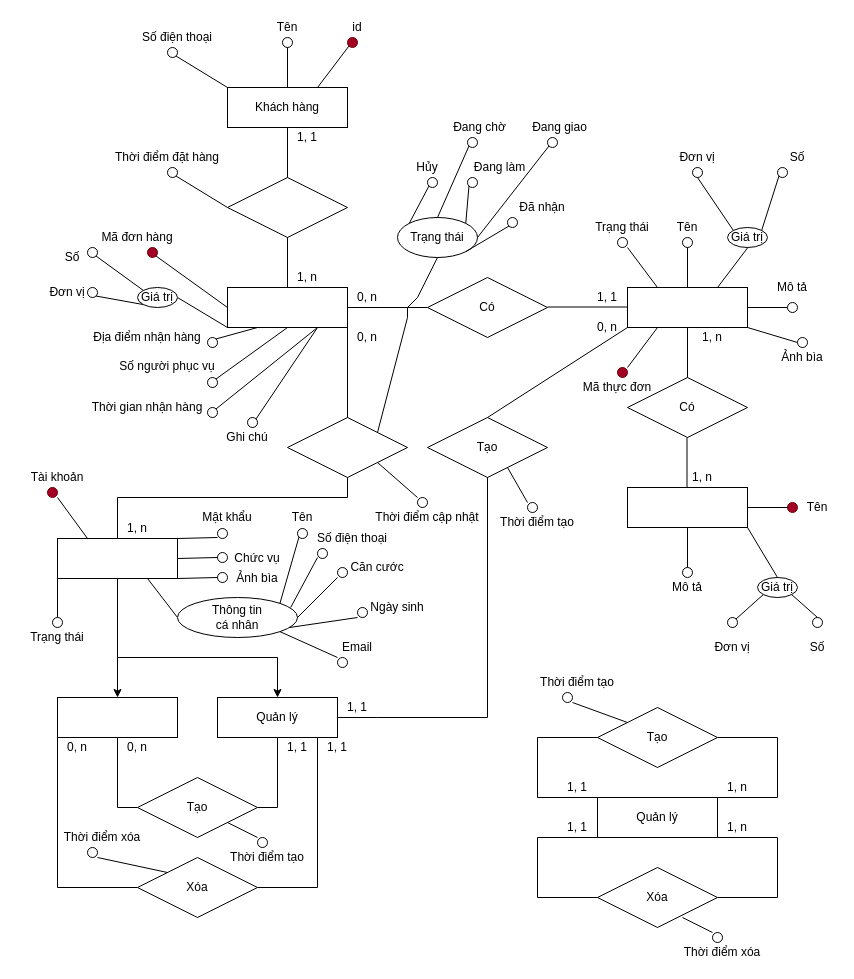
Image size: 854x979. Some labels were removed from this diagram. The centre of each missing label's shape, as x and y in pixels:
"Admin" goes at pixel 117 558.
"Cập nhật" goes at pixel 347 447.
"Món ăn" goes at pixel 687 507.
"Nhân viên" goes at pixel 117 717.
"Thực đơn" goes at pixel 687 307.
"Đơn hàng" goes at pixel 287 307.
"Đặt" goes at pixel 287 207.
